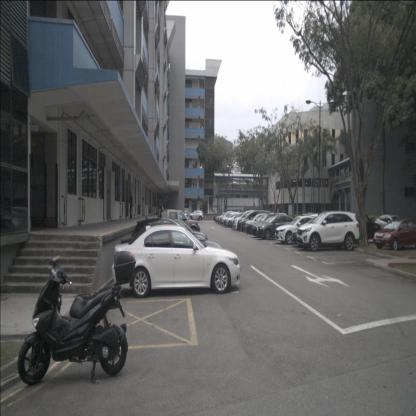human-pedestrian-adult: (128, 191, 133, 219)
vehicle-car: (112, 224, 242, 299), (130, 218, 224, 281), (296, 211, 360, 252), (291, 216, 345, 248), (275, 216, 328, 245), (338, 211, 382, 244), (373, 218, 415, 252), (256, 214, 300, 240), (237, 210, 271, 232), (246, 214, 278, 235), (374, 215, 405, 236), (232, 210, 263, 230), (224, 212, 250, 228), (189, 210, 204, 221)
vehicle-motorcycle: (17, 250, 136, 386)
vehicle-truck: (143, 209, 200, 237)
